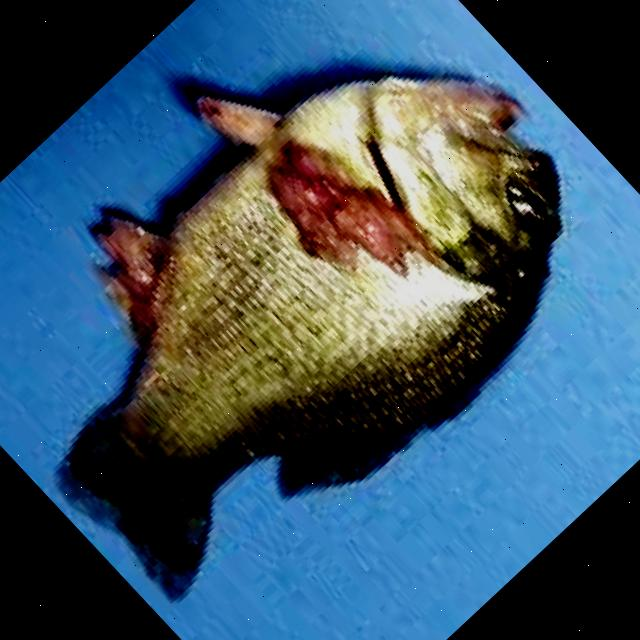Epizootic Ulcerative Syndrome -EUS-: (59, 75, 562, 600)
